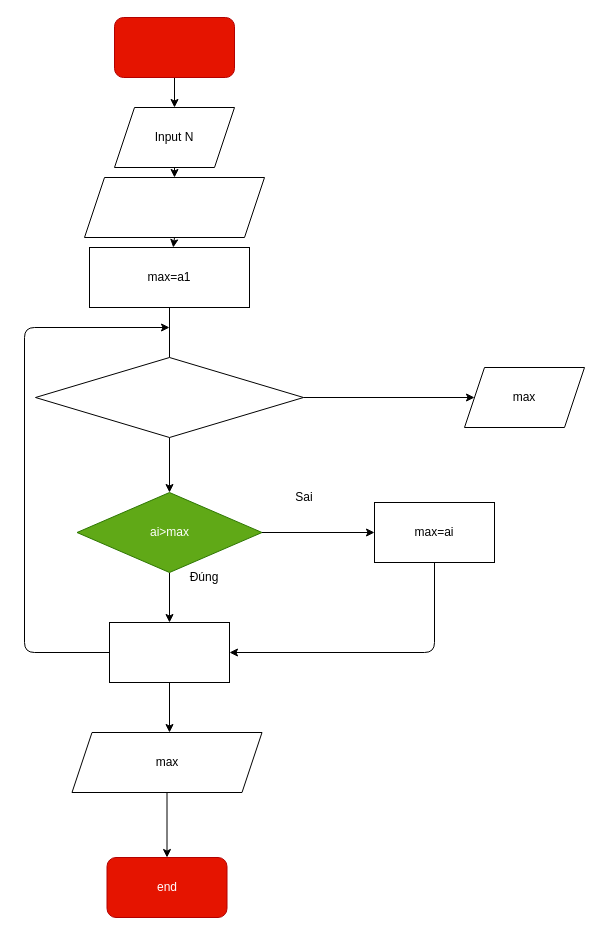
Image size: 602x935. Some labels were removed from this diagram. The shapes that lost their labels are listed below. From the top down, each one's centre as x and y in pixels, then its label:
the point at 174,47: start
the point at 174,207: input a1, i=1
the point at 169,397: i<n
the point at 169,652: max=ai, i=i+1
